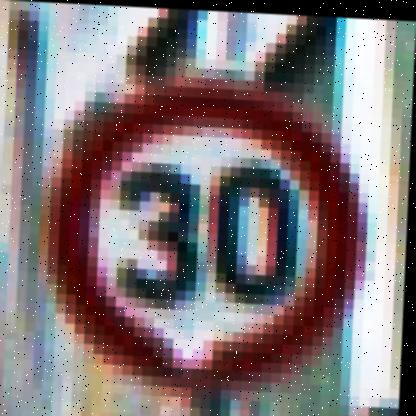Speed Limit -30-: (38, 67, 377, 409)
